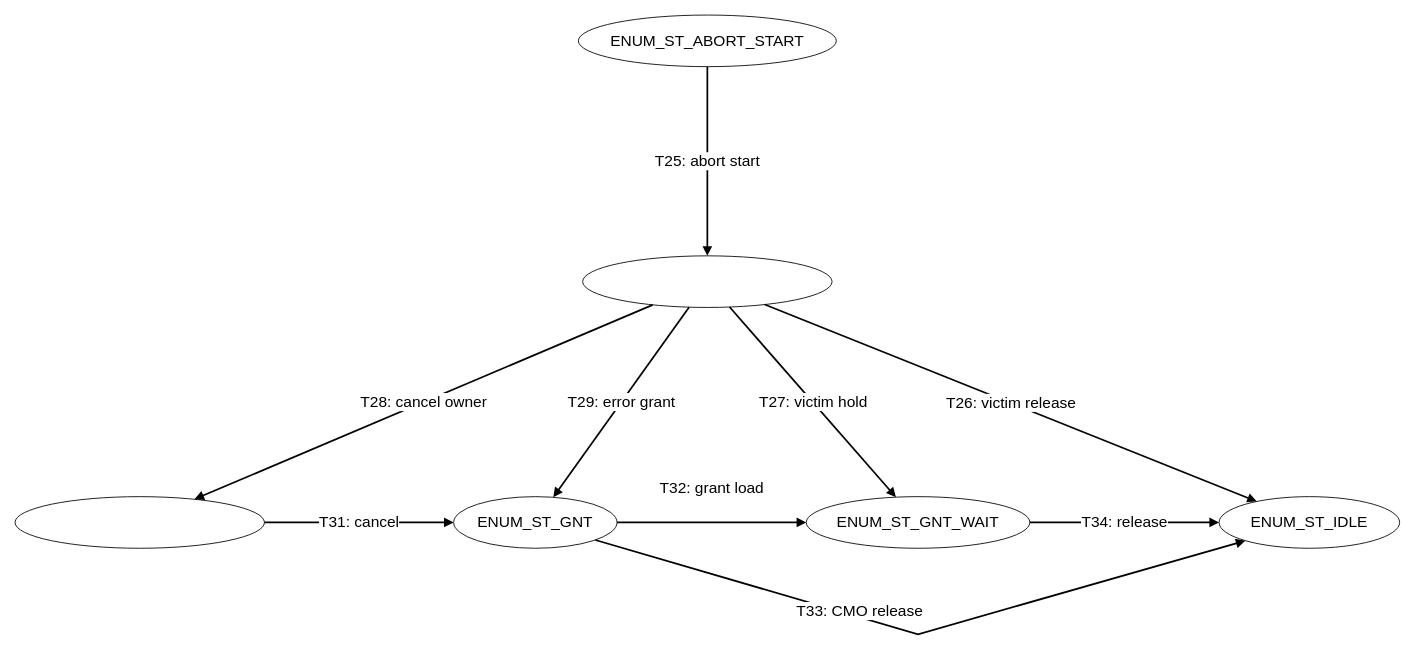
Image size: 1415x657. Some labels were removed from this diagram. The box of each missing label's shape, as (x1, y1, x2, y2) in pixels:
ENUM_ST_ABORT_WAIT: (582, 255, 832, 307)
ENUM_ST_DIR_CANCEL: (14, 496, 264, 548)
